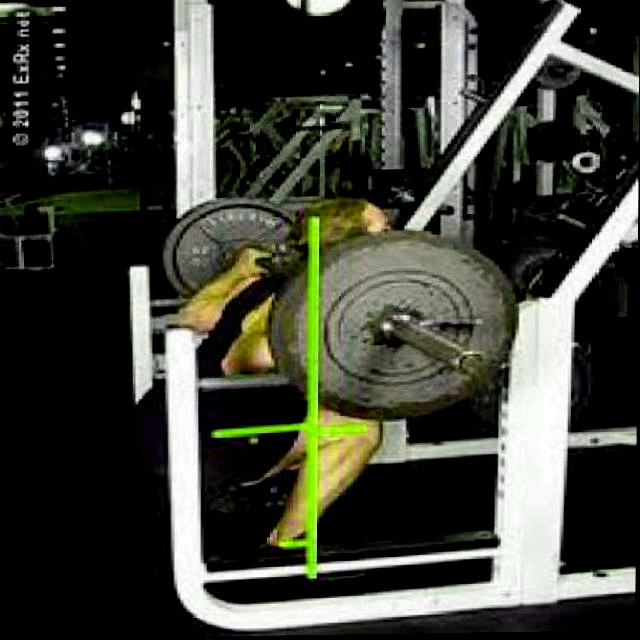barbell: (265, 227, 522, 429)
